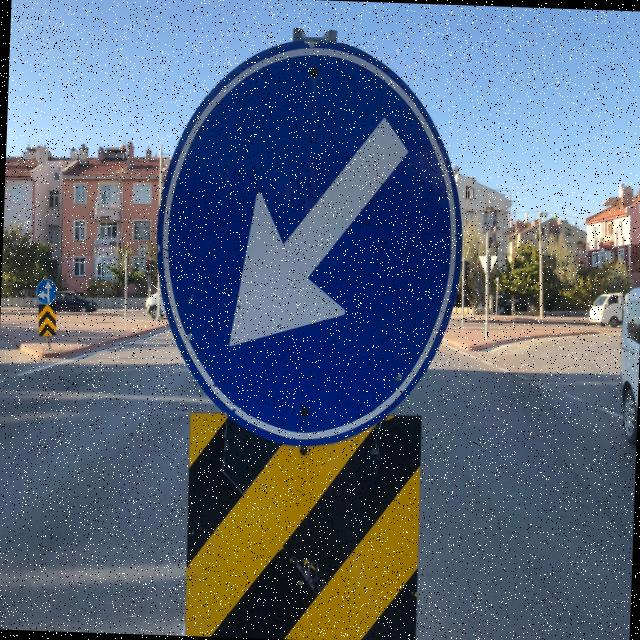compulsory_keep_right: (144, 21, 474, 458)
